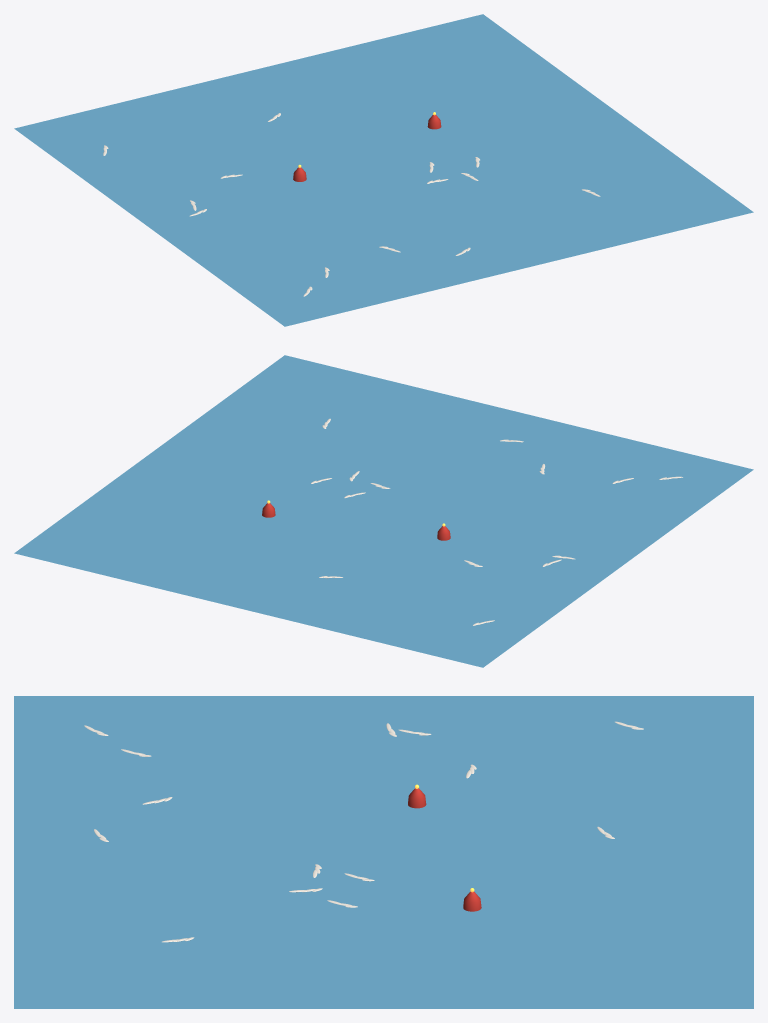
The model's file is land_sea.glb.
The picture shows the model from 3 angles, top to bottom: view 1: azimuth 30°, elevation 25°; view 2: azimuth 150°, elevation 25°; view 3: azimuth 270°, elevation 25°; orthographic projection. The views are drawn at different scales.
Visible parts, largest first — view 1: land_sea; view 2: land_sea; view 3: land_sea.
Part boxes in pixels (box(x1,y1,x2,y2)): land_sea: box(14, 14, 753, 326); land_sea: box(14, 355, 753, 667); land_sea: box(14, 696, 753, 1008).
Bounding box in the file's own units: 40 × 1.17 × 40.
1 material, 1 textured.
